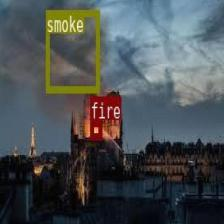fire: (90, 119, 102, 139)
smoke: (46, 10, 99, 90)
